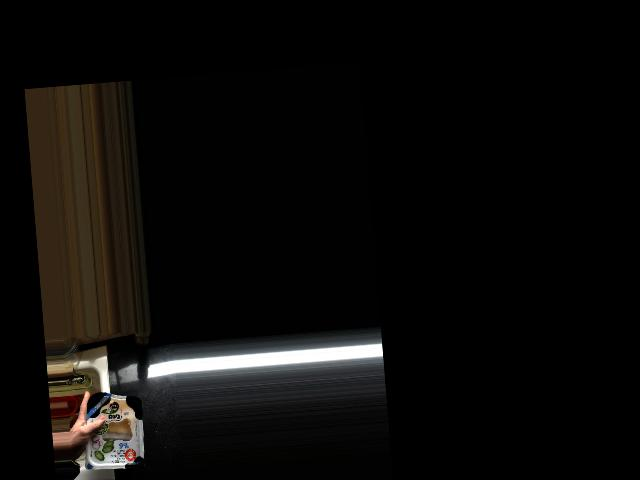cheese: (80, 389, 145, 469)
